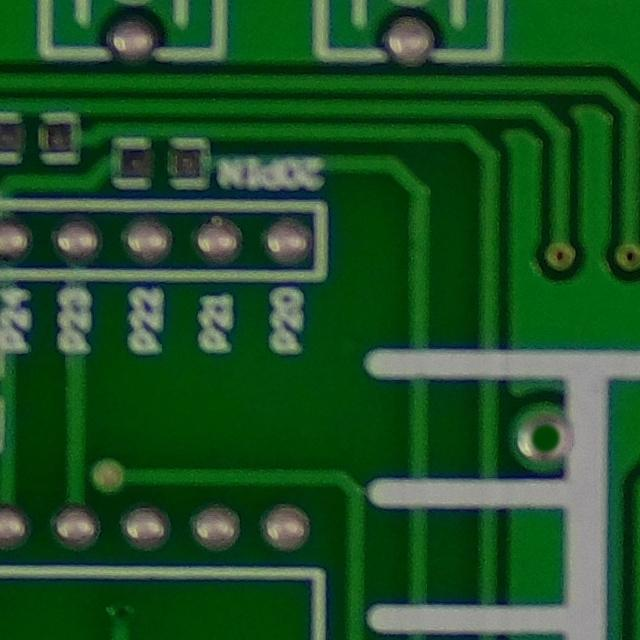missing_hole: (513, 404, 577, 468)
